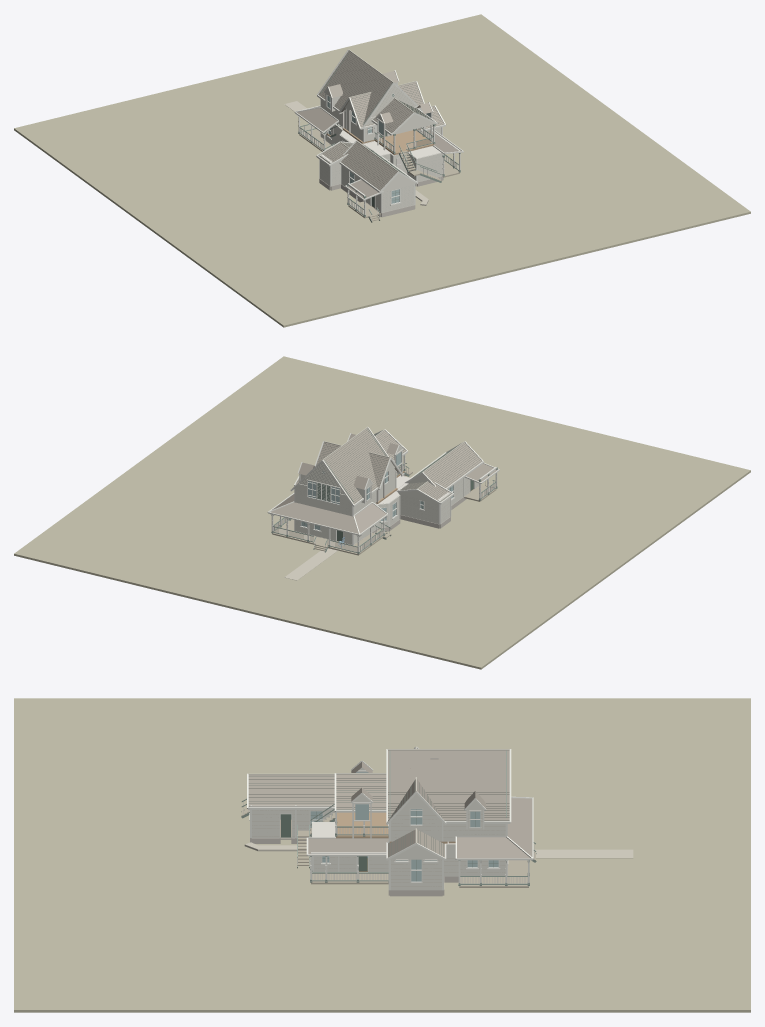
File: ranch-ours.glb
3 renders of one model, top to bottom at view 1: azimuth 30°, elevation 25°; view 2: azimuth 150°, elevation 25°; view 3: azimuth 270°, elevation 25°, orthographic. The views are drawn at different scales.
Size of the model in its own units: 62 by 12.64 by 62.
